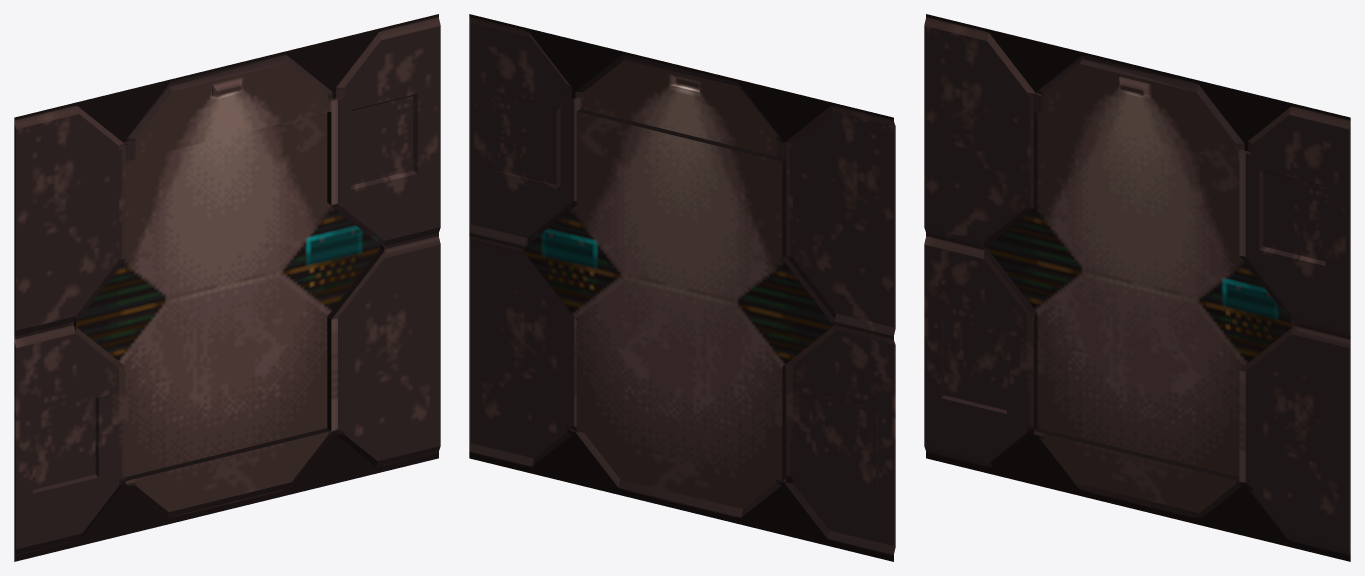
The model's file is eng1_9.fbx.
3 views of the same model, side by side, from view 1: azimuth 30°, elevation 25°; view 2: azimuth 150°, elevation 25°; view 3: azimuth 330°, elevation 25° (orthographic).
Parts seen in each view (by area): view 1: eng1_5_mesh; view 2: eng1_5_mesh; view 3: eng1_5_mesh.
Boxes of the visible parts, box(x1,y1,x2,y2) form: eng1_5_mesh: box(14, 14, 440, 561); eng1_5_mesh: box(469, 14, 895, 561); eng1_5_mesh: box(924, 14, 1350, 561).
Size of the model in its own units: 256 by 256 by 7.2.
